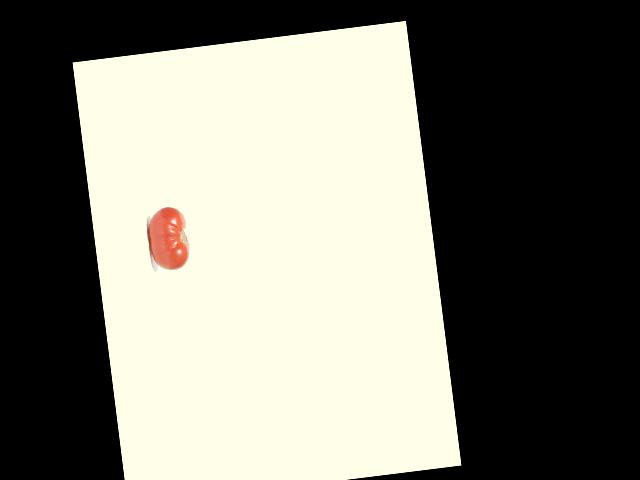tomato: (145, 204, 191, 271)
